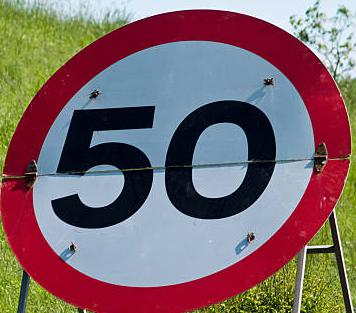Speed Limit -50-: (0, 1, 355, 312)
